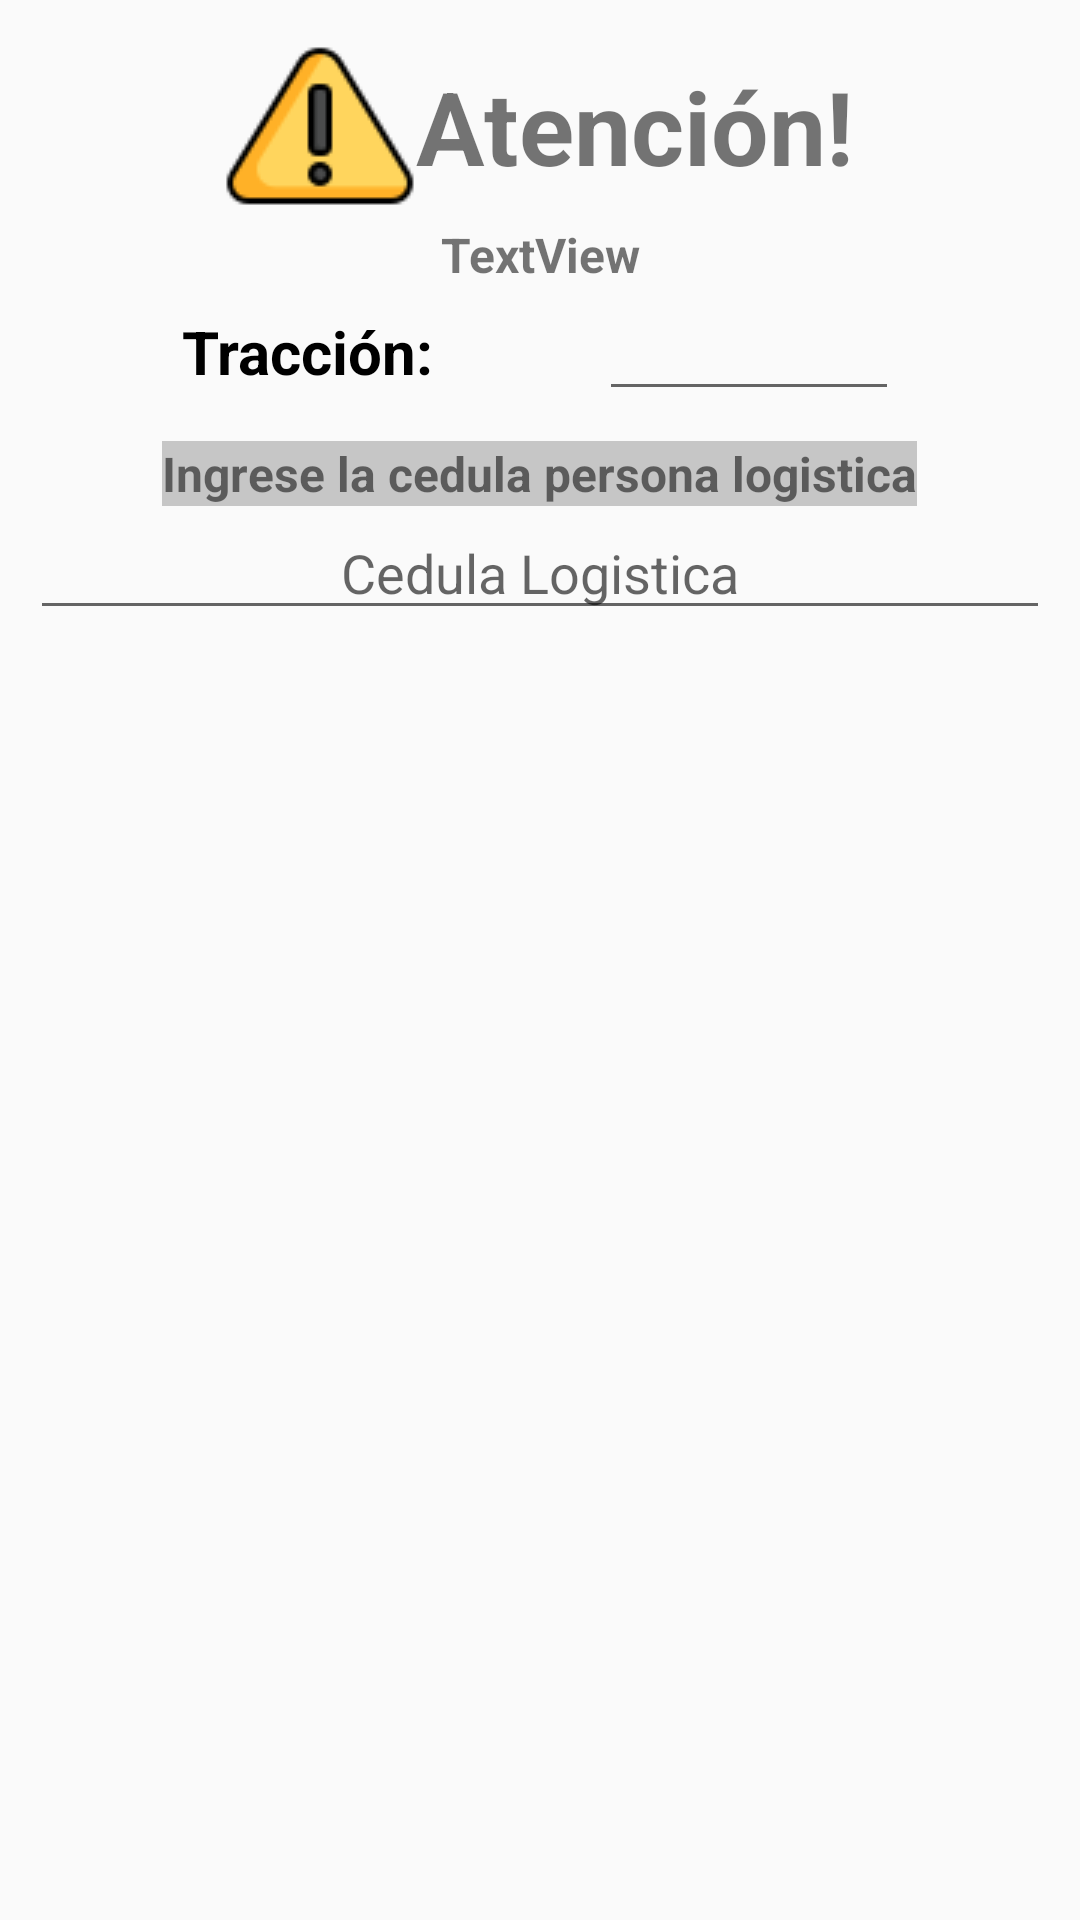

Icon bounding boxes for this 1080w x 1920h phone screenshot, format (x1, y1, x2, y2):
advertencia: (226, 47, 414, 205)
